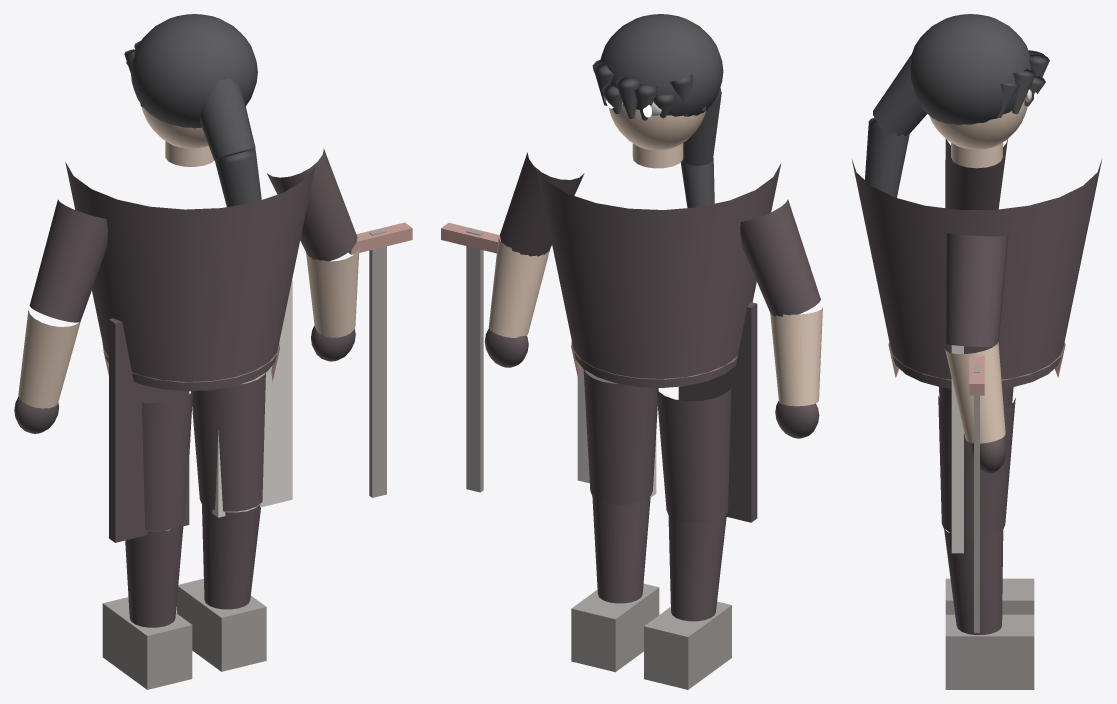
The model's file is tena-elion-procedural-v1.glb.
3 renders of one model, left to right at view 1: azimuth 30°, elevation 25°; view 2: azimuth 150°, elevation 25°; view 3: azimuth 270°, elevation 25°, orthographic. The views are drawn at different scales.
Visible parts, largest first — view 1: Outfit_Torso, Hair_Cap, Body_Thigh_R, Outfit_CoatTail_L, Body_UpperArm_L, Body_Thigh_L, Outfit_Boot_L, Outfit_CoatTail_R, Outfit_Boot_R, Body_Shin_R, Body_Shin_L, Weapon_SwordBlade (+10 smaller); view 2: Outfit_Torso, Body_Thigh_L, Body_Thigh_R, Hair_Cap, Outfit_CoatTail_L, Body_UpperArm_L, Outfit_Boot_L, Outfit_Boot_R, Body_Shin_R, Body_Shin_L, Weapon_SwordBlade, Body_Forearm_L (+11 smaller); view 3: Outfit_Torso, Hair_Cap, Body_UpperArm_R, Outfit_Boot_R, Body_Thigh_R, Body_Shin_R, Body_Forearm_R, Body_UpperArm_L, Hair_Ponytail_1, Hair_Ponytail_0, Body_Head, Outfit_CoatTail_R (+8 smaller).
Part boxes in pixels (x1,y1,x2,y2): Outfit_Torso: (65, 162, 315, 391); Hair_Cap: (130, 14, 257, 128); Body_Thigh_R: (191, 373, 265, 511); Outfit_CoatTail_L: (109, 318, 189, 542); Body_UpperArm_L: (29, 200, 107, 322); Body_Thigh_L: (141, 391, 192, 530); Outfit_Boot_L: (102, 597, 192, 689); Outfit_CoatTail_R: (212, 280, 292, 517); Outfit_Boot_R: (176, 578, 266, 671); Body_Shin_R: (202, 504, 260, 609); Body_Shin_L: (125, 523, 183, 627); Weapon_SwordBlade: (369, 229, 386, 497); Outfit_Torso: (536, 163, 781, 387); Body_Thigh_L: (656, 387, 731, 522); Body_Thigh_R: (583, 369, 658, 504); Hair_Cap: (600, 14, 723, 116); Outfit_CoatTail_L: (678, 302, 757, 522); Body_UpperArm_L: (740, 199, 820, 316); Outfit_Boot_L: (644, 601, 731, 689); Outfit_Boot_R: (571, 583, 659, 672); Body_Shin_R: (592, 496, 650, 603); Body_Shin_L: (668, 514, 726, 621); Weapon_SwordBlade: (466, 229, 483, 492); Body_Forearm_L: (770, 307, 822, 406); Outfit_Torso: (852, 160, 1101, 388); Hair_Cap: (910, 14, 1031, 125); Body_UpperArm_R: (945, 233, 1008, 346); Outfit_Boot_R: (945, 614, 1034, 689); Body_Thigh_R: (938, 396, 1015, 536); Body_Shin_R: (944, 528, 1003, 634); Body_Forearm_R: (945, 342, 1005, 443); Body_UpperArm_L: (945, 139, 1007, 209); Hair_Ponytail_1: (865, 118, 909, 197); Hair_Ponytail_0: (873, 54, 927, 136); Body_Head: (929, 100, 1027, 149); Outfit_CoatTail_R: (951, 345, 963, 553).
Bounding box in the file's own units: 1.27 × 2.03 × 0.722.
